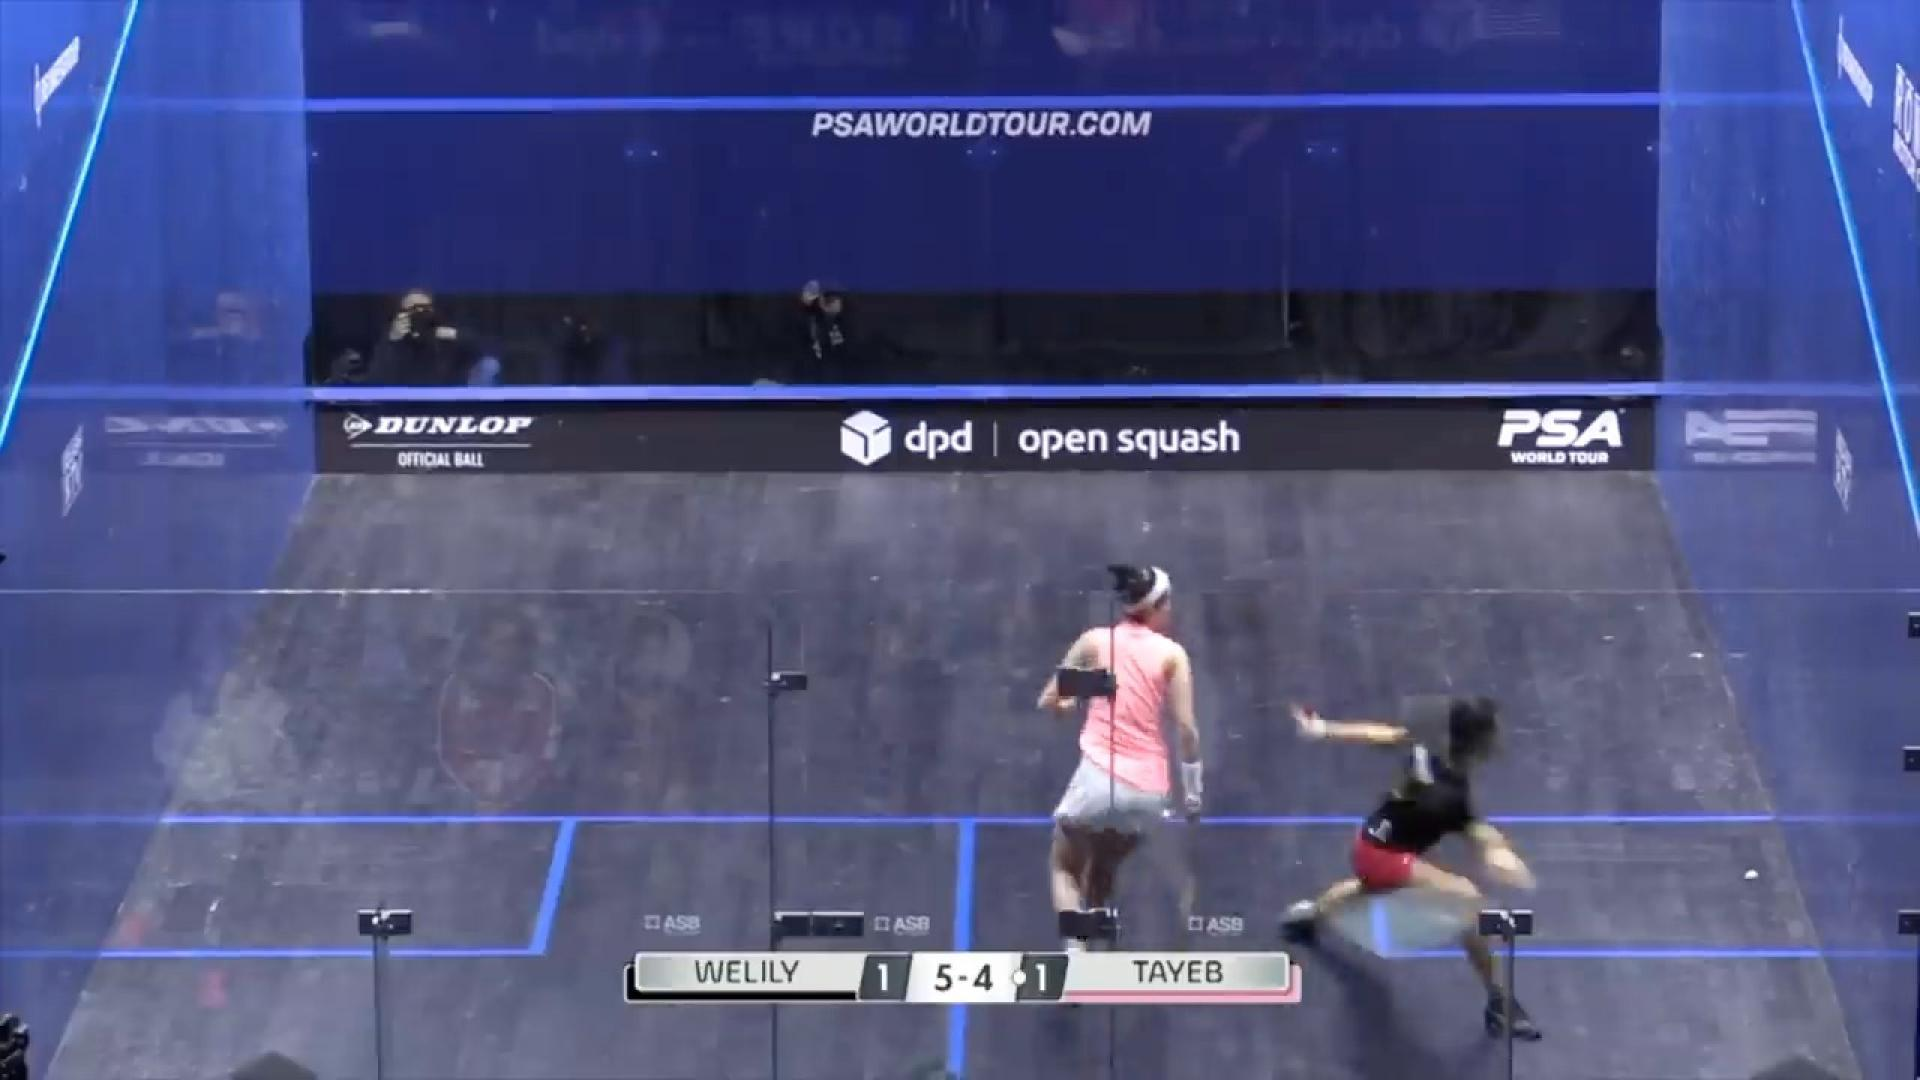Squash-Ball: (1730, 855, 1772, 898)
